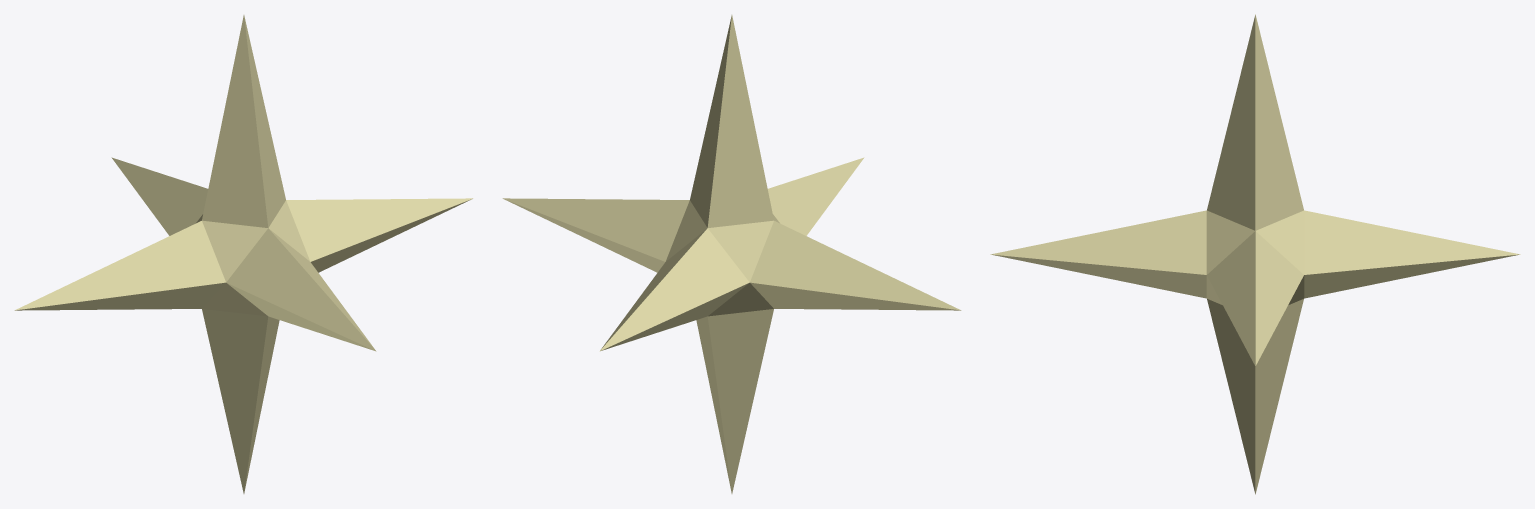
File: star.glb
3 views of the same model, side by side, from view 1: azimuth 30°, elevation 25°; view 2: azimuth 150°, elevation 25°; view 3: azimuth 270°, elevation 25° (orthographic).
Visible parts, largest first — view 1: Solid; view 2: Solid; view 3: Solid.
Boxes of the visible parts, x1,y1,x2,y2 form: Solid: (14,15,473,493); Solid: (502,15,961,493); Solid: (990,14,1520,494).
Bounding box in the file's own units: 392 × 392 × 392.
